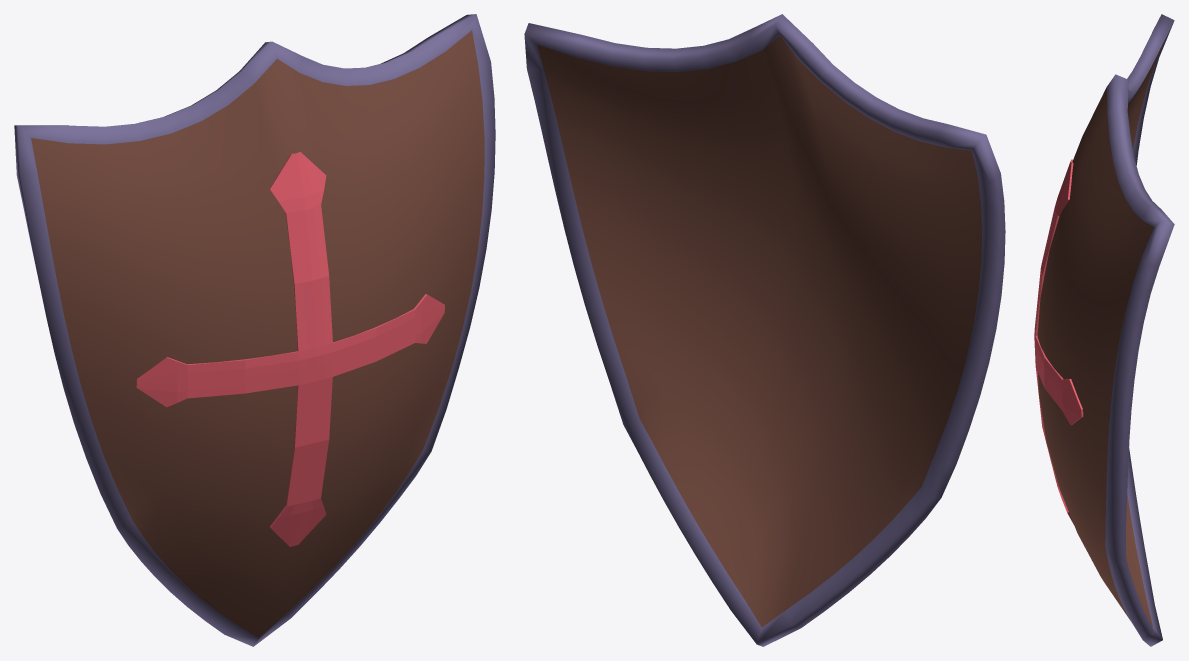
Rendered from Shield.fbx.
3 views of the same model, side by side, from view 1: azimuth 30°, elevation 25°; view 2: azimuth 150°, elevation 25°; view 3: azimuth 270°, elevation 25° (orthographic). The views are drawn at different scales.
Visible parts, largest first — view 1: Shield; view 2: Shield; view 3: Shield.
Boxes of the visible parts, bbox=[...] form: Shield: bbox=[14, 14, 495, 646]; Shield: bbox=[524, 14, 1005, 646]; Shield: bbox=[1034, 14, 1174, 646].
Bounding box in the file's own units: 48.68 × 61.23 × 13.61.
